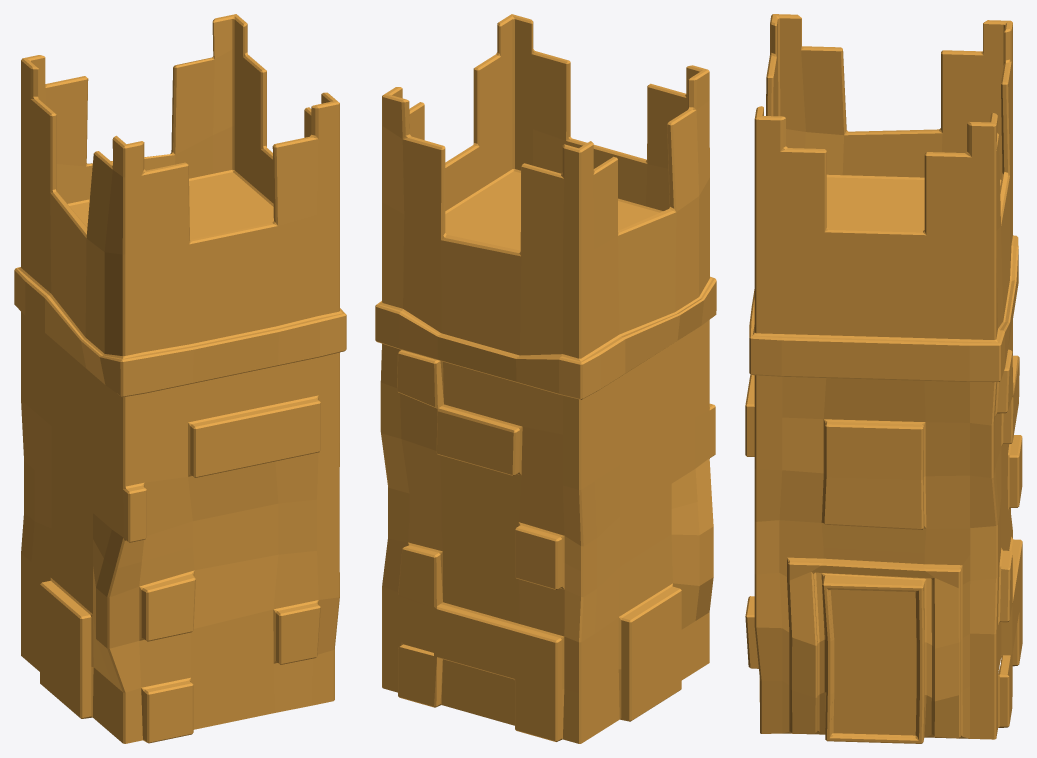
The model's file is SM_Castles_Tower2.fbx.
3 views of the same model, side by side, from view 1: azimuth 30°, elevation 25°; view 2: azimuth 150°, elevation 25°; view 3: azimuth 270°, elevation 25° (orthographic). The views are drawn at different scales.
Parts seen in each view (by area): view 1: Castle_Tower2; view 2: Castle_Tower2; view 3: Castle_Tower2.
Boxes of the visible parts, <box> form: Castle_Tower2: <box>14,14,346,743</box>; Castle_Tower2: <box>375,14,716,743</box>; Castle_Tower2: <box>745,14,1022,743</box>.
Bounding box in the file's own units: 355 × 839 × 341.
